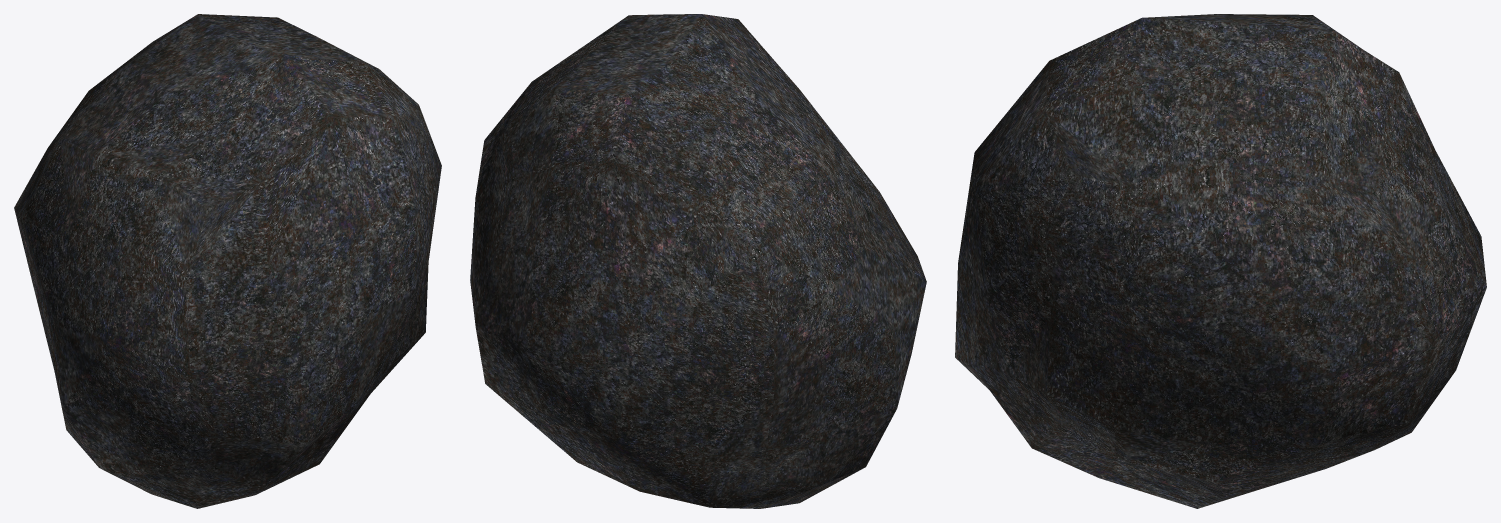
The model's file is asteroid_metal_radial_s01_l0.fbx.
3 renders of one model, left to right at view 1: azimuth 30°, elevation 25°; view 2: azimuth 150°, elevation 25°; view 3: azimuth 270°, elevation 25°, orthographic. The views are drawn at different scales.
Parts seen in each view (by area): view 1: mesh_node; view 2: mesh_node; view 3: mesh_node.
Part boxes in pixels (bbox=[...]): mesh_node: bbox=[14, 14, 441, 508]; mesh_node: bbox=[470, 14, 926, 508]; mesh_node: bbox=[955, 14, 1486, 508].
Bounding box in the file's own units: 4.62 × 5.21 × 4.82.
